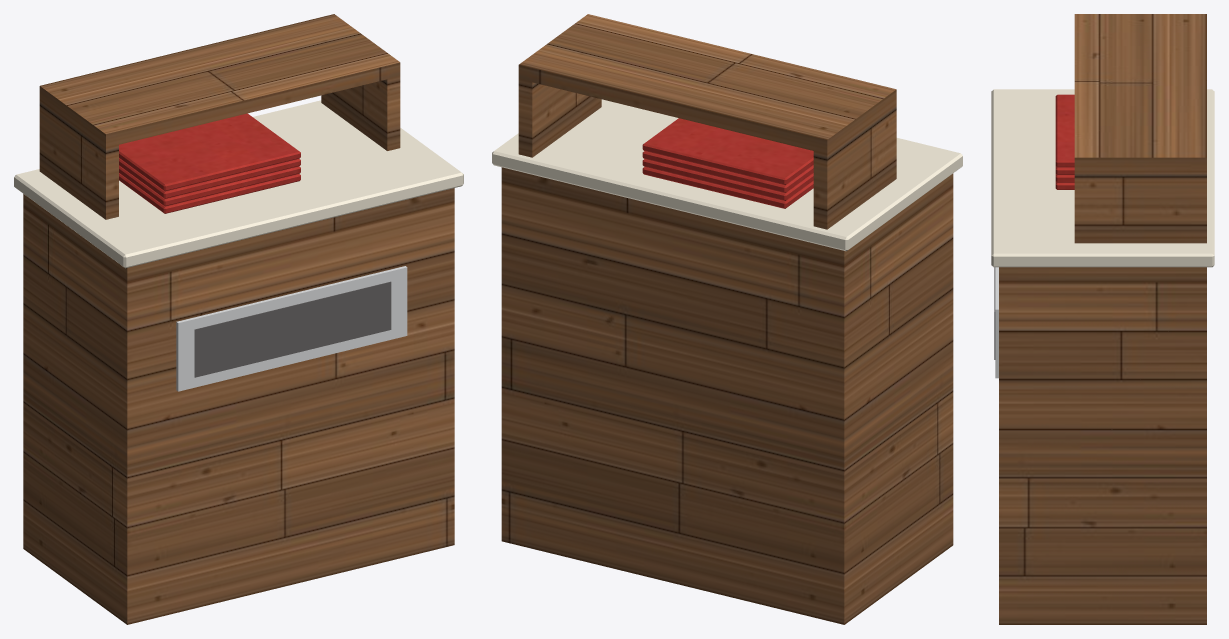
The model's file is trash_station.glb.
3 renders of one model, left to right at view 1: azimuth 30°, elevation 25°; view 2: azimuth 150°, elevation 25°; view 3: azimuth 270°, elevation 25°, orthographic. The views are drawn at different scales.
Parts seen in each view (by area): view 1: trash_station_wood, trash_station_formica, trash_station_red, trash_station_dark, trash_station_steel; view 2: trash_station_wood, trash_station_formica, trash_station_red; view 3: trash_station_wood, trash_station_formica, trash_station_red, trash_station_steel.
Part boxes in pixels (x1,y1,x2,y2): trash_station_wood: (23, 14, 454, 624); trash_station_formica: (14, 100, 463, 268); trash_station_red: (119, 113, 300, 213); trash_station_dark: (194, 281, 391, 377); trash_station_steel: (176, 266, 407, 391); trash_station_wood: (501, 14, 953, 624); trash_station_formica: (492, 99, 962, 251); trash_station_red: (642, 118, 813, 208); trash_station_wood: (999, 14, 1206, 624); trash_station_formica: (991, 89, 1214, 267); trash_station_red: (1055, 94, 1074, 189); trash_station_steel: (995, 267, 998, 378).
Bounding box in the file's own units: 1.04 × 1.34 × 0.59.
5 materials, 2 textured.
